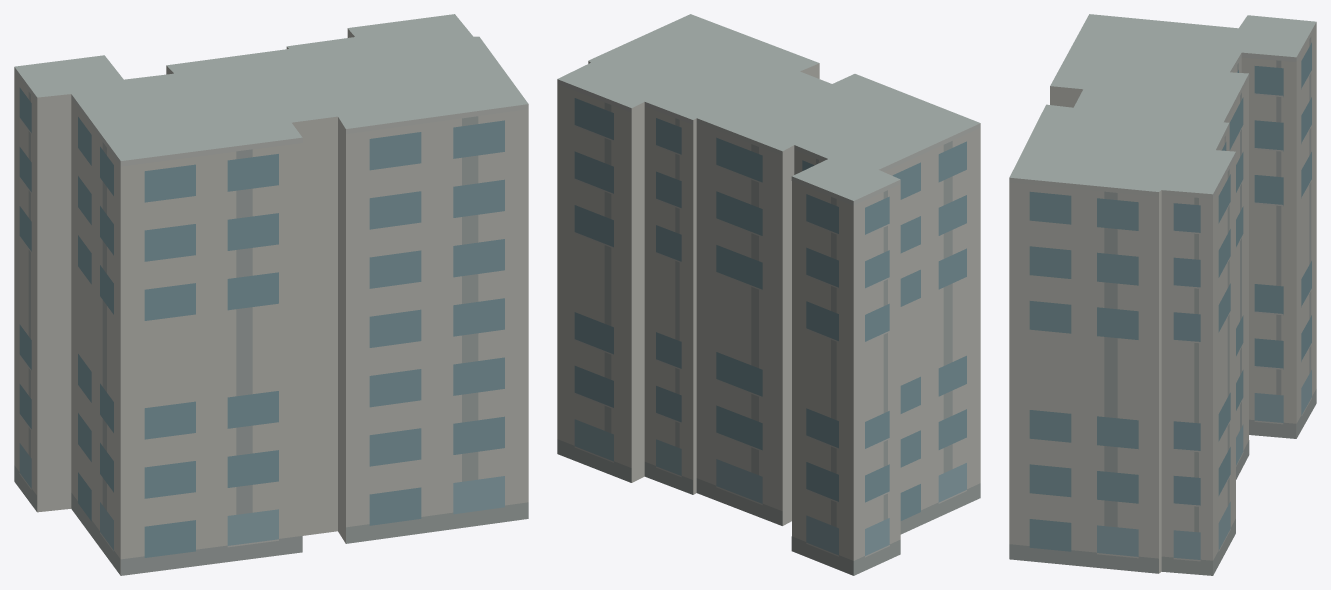
The model's file is survey-upis-32793127.glb.
The picture shows the model from 3 angles, left to right: view 1: azimuth 30°, elevation 25°; view 2: azimuth 150°, elevation 25°; view 3: azimuth 270°, elevation 25°; orthographic projection. The views are drawn at different scales.
Visible parts, largest first — view 1: survey-upis-32793127.tmp; view 2: survey-upis-32793127.tmp; view 3: survey-upis-32793127.tmp.
Part boxes in pixels (box(x1,y1,x2,y2)): survey-upis-32793127.tmp: box(14, 14, 528, 575); survey-upis-32793127.tmp: box(557, 14, 980, 575); survey-upis-32793127.tmp: box(1009, 14, 1316, 575).
Size of the model in its own units: 19.56 by 19.3 by 14.09.
